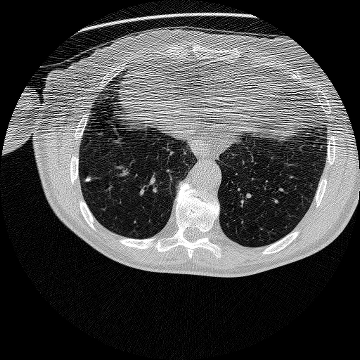nodule: (87, 178, 91, 182)
